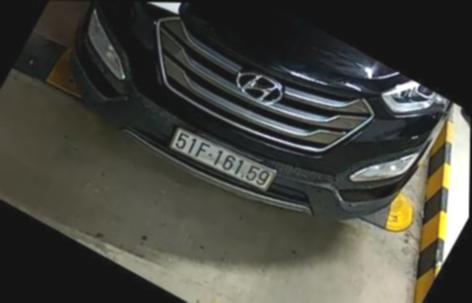License_Plate: (165, 119, 283, 200)
